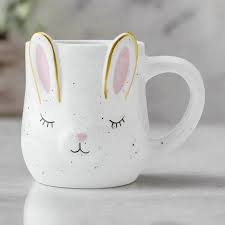mug: (1, 35, 208, 199)
